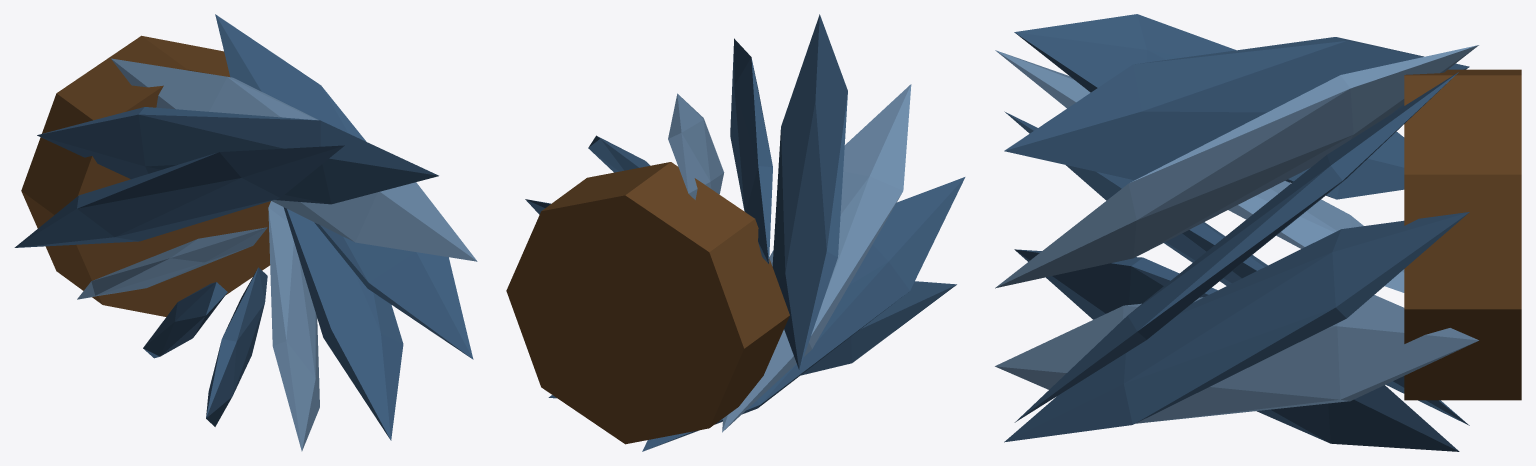
The model's file is 3_growing.obj.
3 renders of one model, left to right at view 1: azimuth 30°, elevation 25°; view 2: azimuth 150°, elevation 25°; view 3: azimuth 270°, elevation 25°, orthographic. The views are drawn at different scales.
Visible parts, largest first — view 1: irit_3_growing; view 2: irit_3_growing; view 3: irit_3_growing.
Part boxes in pixels (x1,y1,x2,y2): irit_3_growing: (14, 14, 477, 451); irit_3_growing: (506, 14, 965, 451); irit_3_growing: (995, 14, 1521, 451).
Size of the model in its own units: 0.1511 by 0.1483 by 0.1797.
